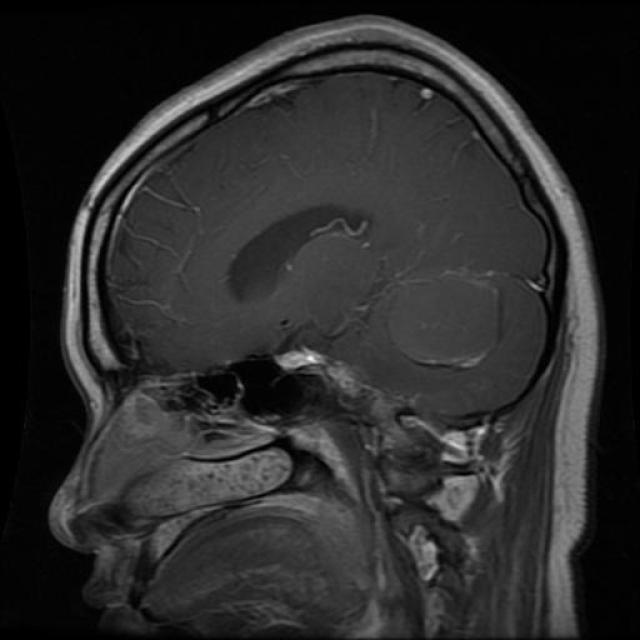glioma: (226, 200, 374, 304), (387, 273, 503, 364)
